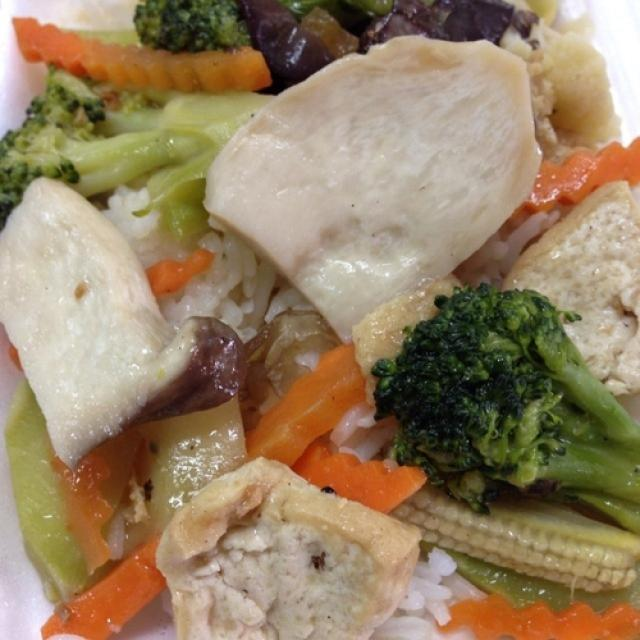蔬菜料理: (22, 18, 608, 591)
